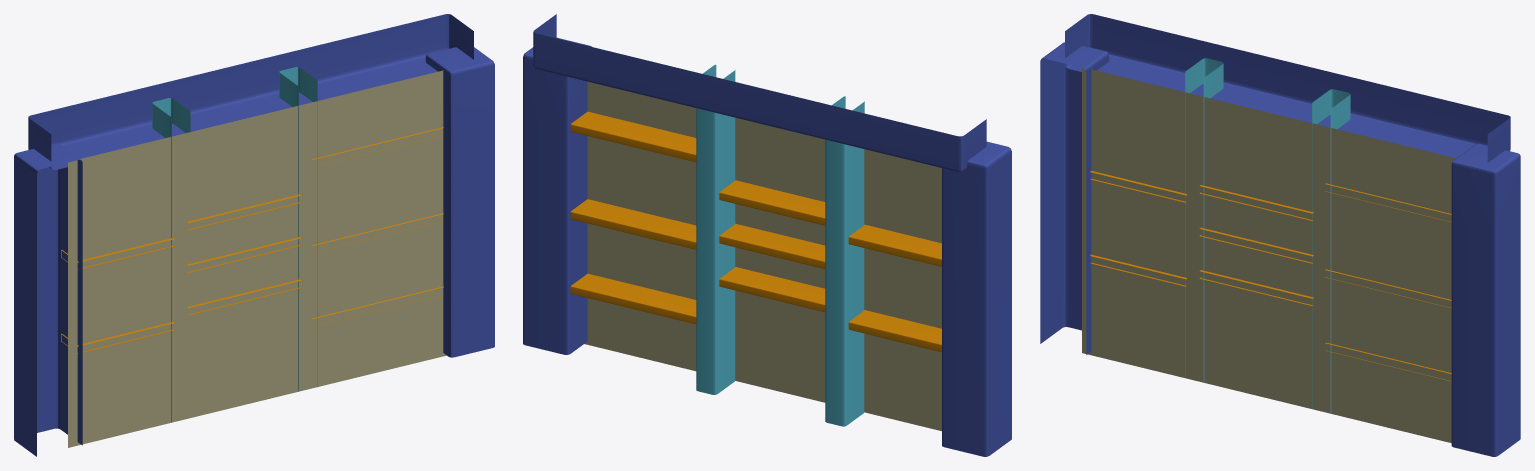
Rendered from SM_LS_1Hous.fbx.
3 renders of one model, left to right at view 1: azimuth 30°, elevation 25°; view 2: azimuth 150°, elevation 25°; view 3: azimuth 330°, elevation 25°, orthographic.
Visible parts, largest first — view 1: SM_Balk_small_short2; view 2: SM_Balk_small_short2; view 3: SM_Balk_small_short2.
Boxes of the visible parts, <box> form: SM_Balk_small_short2: <box>14,14,494,456</box>; SM_Balk_small_short2: <box>523,14,1011,456</box>; SM_Balk_small_short2: <box>1040,14,1520,456</box>.
Bounding box in the file's own units: 4.49 × 2.98 × 0.5393.
